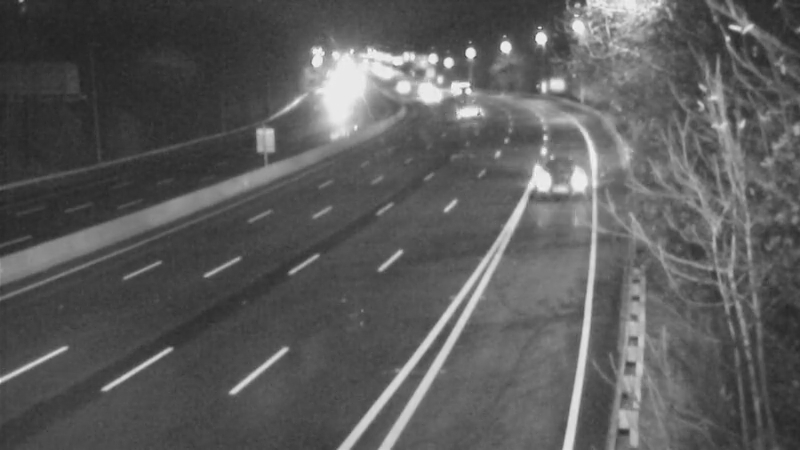vehicle: (526, 141, 606, 221), (431, 58, 481, 108), (373, 60, 423, 110), (394, 61, 444, 111), (404, 66, 454, 116), (439, 82, 489, 132), (310, 73, 360, 123)
